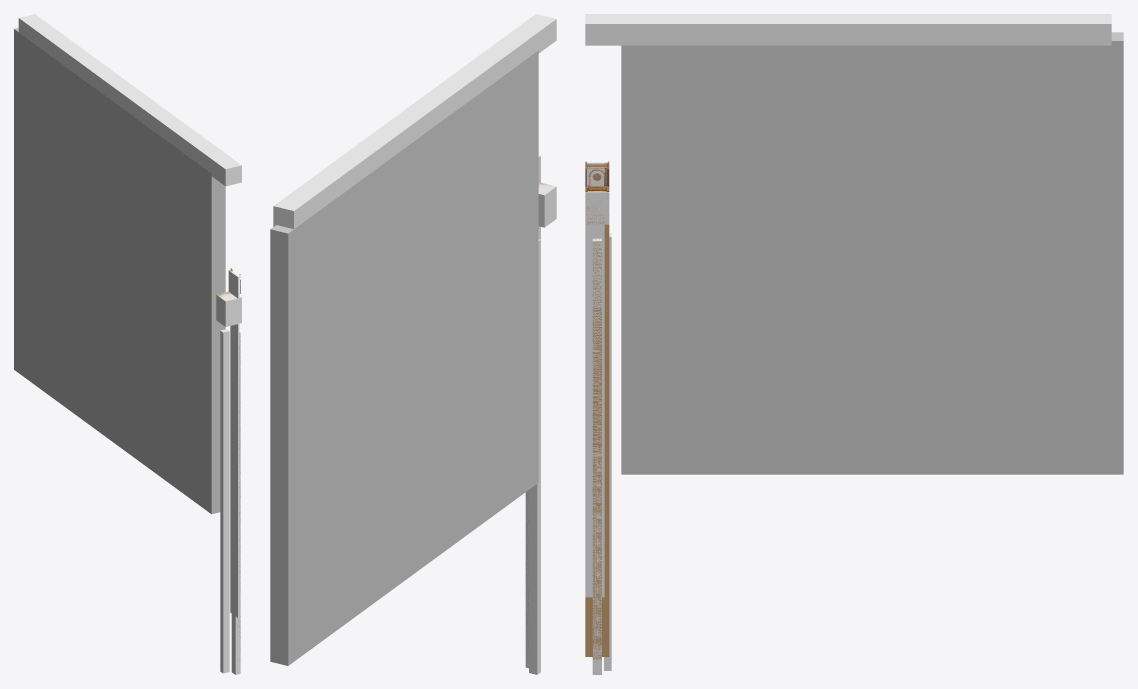
The model's file is sand_stone_north_west_corner.gltf.
3 renders of one model, left to right at view 1: azimuth 30°, elevation 25°; view 2: azimuth 150°, elevation 25°; view 3: azimuth 270°, elevation 25°, orthographic. The views are drawn at different scales.
Visible parts, largest first — view 1: MeshInstance3D2, MeshInstance3D5, MeshInstance3D4, MeshInstance3D, MeshInstance3D3, Wall; view 2: MeshInstance3D2, MeshInstance3D5, MeshInstance3D4, Wall, MeshInstance3D3; view 3: MeshInstance3D2, MeshInstance3D5, MeshInstance3D, MeshInstance3D3, SupportPillar, MassiveWall, MeshInstance3D4, Wall.
Part boxes in pixels (x1,y1,x2,y2): MeshInstance3D2: (14,28,225,514); MeshInstance3D5: (18,14,241,186); MeshInstance3D4: (220,329,229,673); MeshInstance3D: (230,271,239,617); MeshInstance3D3: (231,332,240,674); Wall: (216,292,241,326); MeshInstance3D2: (270,50,538,665); MeshInstance3D5: (273,14,556,228); MeshInstance3D4: (529,239,540,674); Wall: (538,183,556,227); MeshInstance3D3: (525,490,528,668); MeshInstance3D2: (621,32,1123,474); MeshInstance3D5: (585,14,1111,45); MeshInstance3D: (585,162,604,597); MeshInstance3D3: (592,238,601,674); SupportPillar: (592,239,601,659); MassiveWall: (585,224,609,656); MeshInstance3D4: (604,233,611,670); Wall: (585,191,609,224).
Bounding box in the file's own units: 1.1 × 29.96 × 22.5.
Materials: 10 (2 with a texture image).
